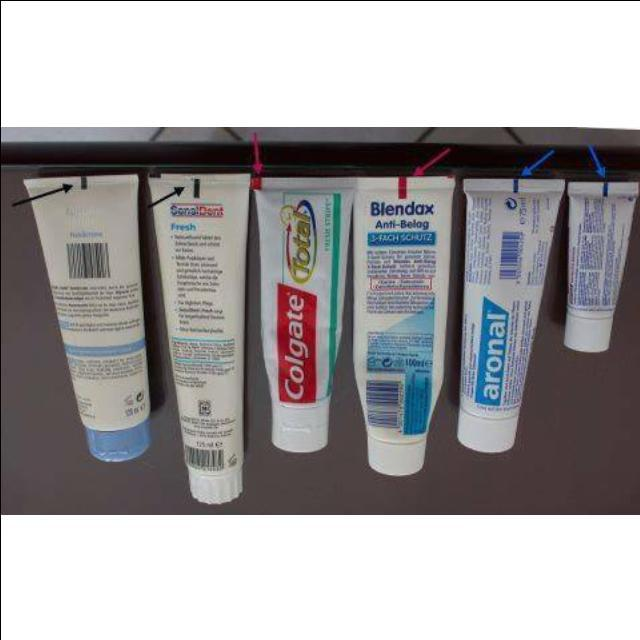Squeeze Tube: (20, 164, 162, 466), (451, 165, 570, 500), (147, 154, 260, 506), (252, 160, 356, 484), (350, 171, 459, 478), (561, 169, 637, 367)
